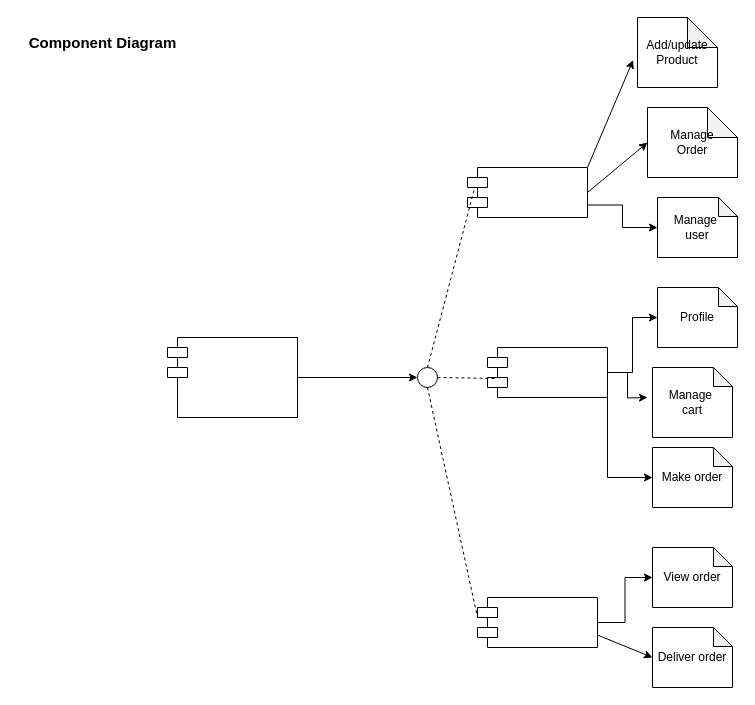
Some shapes in this 755 by 705 pixel diagram are drawn without their labels. The centre of each missing label's shape, as x and y in pixels:
"Admin" goes at pixel 527 192.
"Customer" goes at pixel 547 372.
"Delivery" goes at pixel 537 622.
"Online Musical Instrument Store" goes at pixel 232 377.
